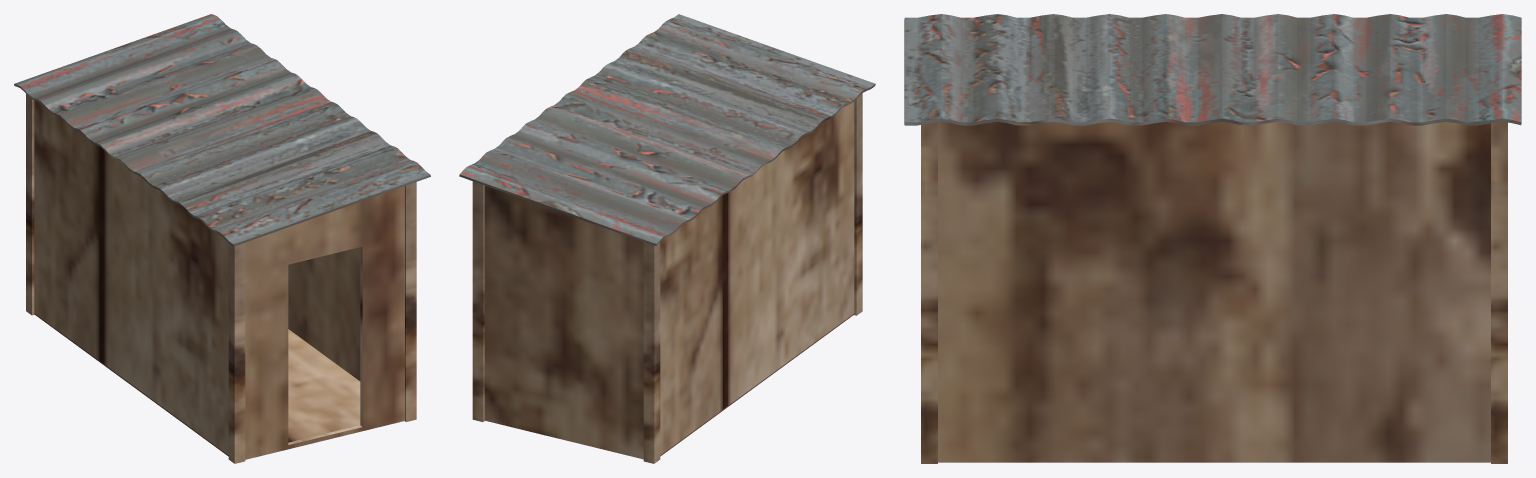
Rendered from deposito 1.fbx.
3 renders of one model, left to right at view 1: azimuth 30°, elevation 25°; view 2: azimuth 150°, elevation 25°; view 3: azimuth 270°, elevation 25°, orthographic. The views are drawn at different scales.
Visible parts, largest first — view 1: Cube, Plane, Cube.002, Cube.005, Cube.003, Cube.006; view 2: Cube, Plane, Cube.006, Cube.004, Cube.005; view 3: Cube, Plane, Cube.004, Cube.003.
Part boxes in pixels (x1,y1,x2,y2): Cube: (34, 100, 404, 459); Plane: (14, 14, 430, 246); Cube.002: (288, 247, 360, 442); Cube.005: (228, 243, 245, 463); Cube.003: (405, 182, 416, 421); Cube.006: (26, 94, 34, 315); Cube: (484, 101, 854, 459); Plane: (459, 14, 875, 245); Cube.006: (643, 242, 660, 463); Cube.004: (472, 181, 484, 421); Cube.005: (854, 93, 862, 315); Cube: (938, 122, 1490, 462); Plane: (904, 14, 1521, 125); Cube.004: (1491, 122, 1507, 463); Cube.003: (921, 122, 937, 463).
Size of the model in its own units: 1106 by 1334 by 2127.
